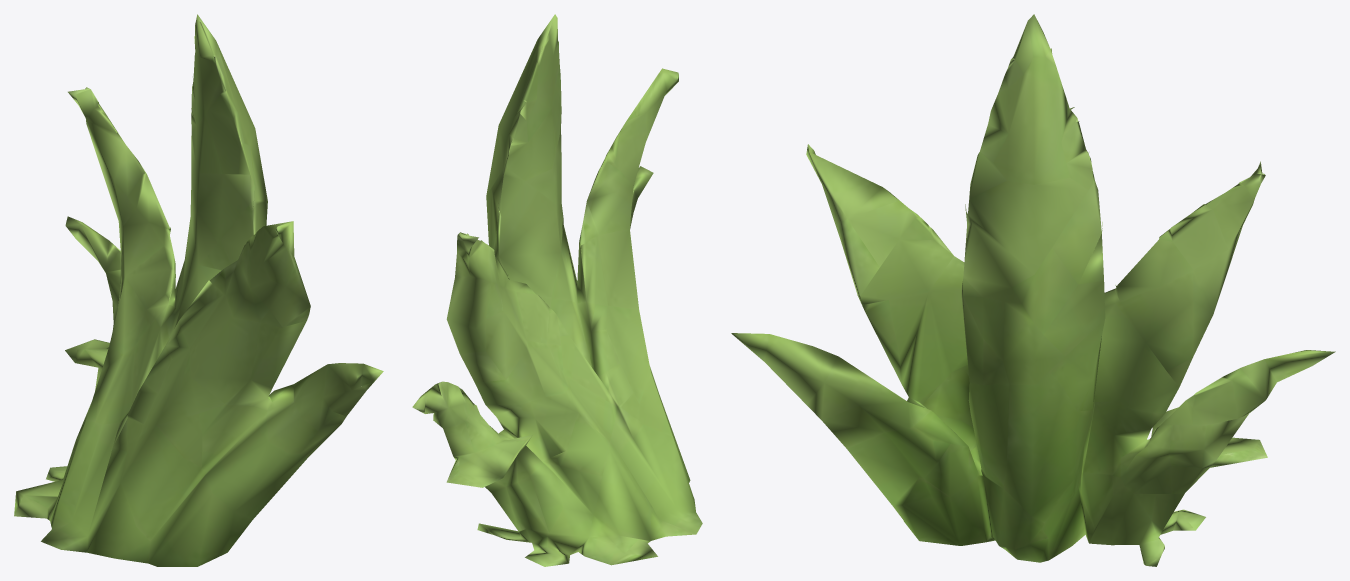
File: green-plant.glb
3 views of the same model, side by side, from view 1: azimuth 30°, elevation 25°; view 2: azimuth 150°, elevation 25°; view 3: azimuth 270°, elevation 25° (orthographic). The views are drawn at different scales.
Parts seen in each view (by area): view 1: tripo_node_c19b7f7d-87ae-4fb1-b7d2-38a64d145c53; view 2: tripo_node_c19b7f7d-87ae-4fb1-b7d2-38a64d145c53; view 3: tripo_node_c19b7f7d-87ae-4fb1-b7d2-38a64d145c53.
Boxes of the visible parts, x1=… form: tripo_node_c19b7f7d-87ae-4fb1-b7d2-38a64d145c53: x1=14, y1=14, x2=383, y2=566; tripo_node_c19b7f7d-87ae-4fb1-b7d2-38a64d145c53: x1=412, y1=14, x2=702, y2=566; tripo_node_c19b7f7d-87ae-4fb1-b7d2-38a64d145c53: x1=731, y1=14, x2=1335, y2=566.
Bounding box in the file's own units: 0.4517 × 0.9648 × 0.9783.
Materials: 1 (1 with a texture image).
